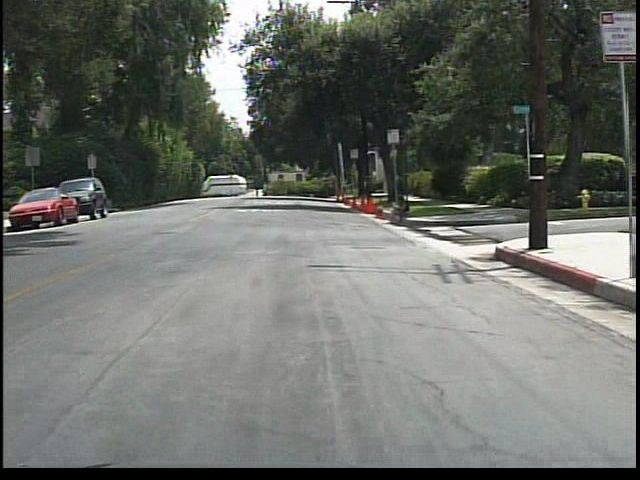person: (387, 190, 418, 229)
